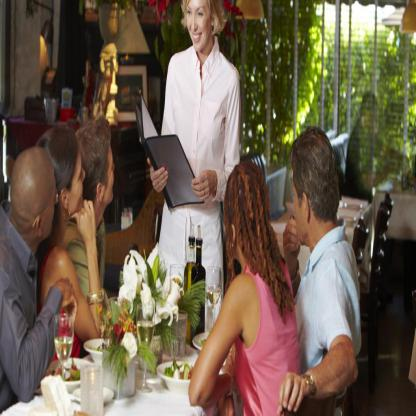face: (186, 1, 212, 52), (70, 159, 86, 213), (293, 178, 305, 246), (102, 152, 116, 204), (45, 187, 58, 237), (368, 108, 379, 138)
